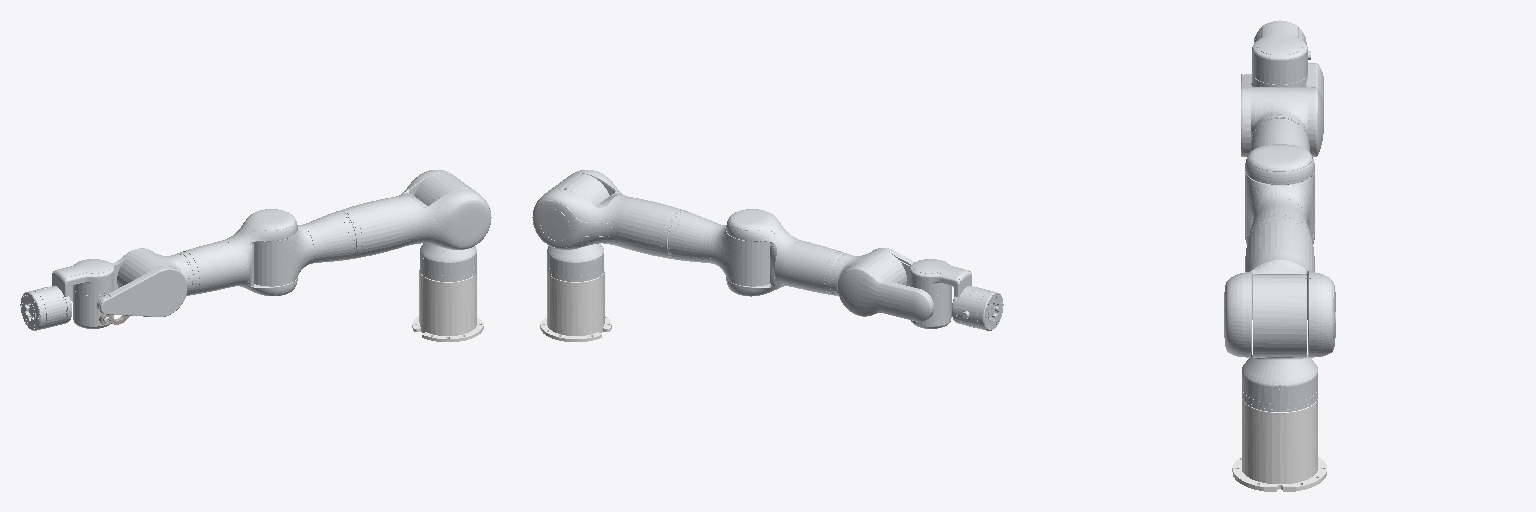
The robot description file, URDF, robot "RXL75S-6F-4C":
<?xml version="1.0" encoding="utf-8"?>
<!-- This URDF was automatically created by SolidWorks to URDF Exporter! Originally created by Stephen Brawner (brawner@gmail.com) 
     Commit Version: 1.6.0-1-g15f4949  Build Version: 1.6.7594.29634
     For more information, please see http://wiki.ros.org/sw_urdf_exporter -->
<robot
  name="RXL75S-6F-4C">
  <link
    name="l_baselink">
    <inertial>
      <origin
        xyz="1.9E-05 -0.000117 0.062107"
        rpy="0 0 0" />
      <mass
        value="1.233" />
      <inertia
        ixx="0.001156944"
        ixy="-0.000000516"
        ixz="0.000000179"
        iyy="0.001149831"
        iyz="-0.000006949"
        izz="0.000883368" />
    </inertial>
    <visual>
      <origin
        xyz="0 0 0"
        rpy="0 0 0" />
      <geometry>
        <mesh
          filename="package://RXL75S-6F-4C/meshes/l_baselink.STL" />
      </geometry>
      <material
        name="">
        <color
          rgba="1 1 1 1" />
      </material>
    </visual>
    <collision>
      <origin
        xyz="0 0 0"
        rpy="0 0 0" />
      <geometry>
        <mesh
          filename="package://RXL75S-6F-4C/meshes/l_baselink.STL" />
      </geometry>
    </collision>
  </link>
  <link
    name="l_link1">
    <inertial>
      <origin
        xyz="-0.000138 -0.000982 -0.012182"
        rpy="0 0 0" />
      <mass
        value="1.821" />
      <inertia
        ixx="0.003045204"
        ixy="-0.000009121"
        ixz="0.000003017"
        iyy="0.002724994"
        iyz="0.000038741"
        izz="0.001902354" />
    </inertial>
    <visual>
      <origin
        xyz="0 0 0"
        rpy="0 0 0" />
      <geometry>
        <mesh
          filename="package://RXL75S-6F-4C/meshes/l_link1.STL" />
      </geometry>
      <material
        name="">
        <color
          rgba="0.89804 0.91765 0.92941 1" />
      </material>
    </visual>
    <collision>
      <origin
        xyz="0 0 0"
        rpy="0 0 0" />
      <geometry>
        <mesh
          filename="package://RXL75S-6F-4C/meshes/l_link1.STL" />
      </geometry>
    </collision>
  </link>
  <joint
    name="l_joint1"
    type="revolute">
    <origin
      xyz="0 0 0.1855"
      rpy="0 0 0" />
    <parent
      link="l_baselink" />
    <child
      link="l_link1" />
    <axis
      xyz="0 0 1" />
    <limit
      lower="-3.054"
      upper="3.054"
      effort="60"
      velocity="3.14" />
  </joint>
  <link
    name="l_link2">
    <inertial>
      <origin
        xyz="0.000688 -0.098869 -0.001"
        rpy="0 0 0" />
      <mass
        value="1.774" />
      <inertia
        ixx="0.007782080"
        ixy="-0.000016924"
        ixz="-0.000000923"
        iyy="0.002081771"
        iyz="0.000101593"
        izz="0.007252211" />
    </inertial>
    <visual>
      <origin
        xyz="0 0 0"
        rpy="0 0 0" />
      <geometry>
        <mesh
          filename="package://RXL75S-6F-4C/meshes/l_link2.STL" />
      </geometry>
      <material
        name="">
        <color
          rgba="0.89804 0.91765 0.92941 1" />
      </material>
    </visual>
    <collision>
      <origin
        xyz="0 0 0"
        rpy="0 0 0" />
      <geometry>
        <mesh
          filename="package://RXL75S-6F-4C/meshes/l_link2.STL" />
      </geometry>
    </collision>
  </link>
  <joint
    name="l_joint2"
    type="revolute">
    <origin
      xyz="0 0 0"
      rpy="-1.5708 -1.5708 0" />
    <parent
      link="l_link1" />
    <child
      link="l_link2" />
    <axis
      xyz="0 0 1" />
    <limit
      lower="-0.261"
      upper="3.054"
      effort="60"
      velocity="3.14" />
  </joint>
  <link
    name="l_link3">
    <inertial>
      <origin
        xyz="0.000217 -0.000308 -0.016346"
        rpy="0 0 0" />
      <mass
        value="1.346" />
      <inertia
        ixx="0.002702961"
        ixy="-0.000009675"
        ixz="-0.000002359"
        iyy="0.002346715"
        iyz="-0.000036364"
        izz="0.001250956" />
    </inertial>
    <visual>
      <origin
        xyz="0 0 0"
        rpy="0 0 0" />
      <geometry>
        <mesh
          filename="package://RXL75S-6F-4C/meshes/l_link3.STL" />
      </geometry>
      <material
        name="">
        <color
          rgba="0.89804 0.91765 0.92941 1" />
      </material>
    </visual>
    <collision>
      <origin
        xyz="0 0 0"
        rpy="0 0 0" />
      <geometry>
        <mesh
          filename="package://RXL75S-6F-4C/meshes/l_link3.STL" />
      </geometry>
    </collision>
  </link>
  <joint
    name="l_joint3"
    type="revolute">
    <origin
      xyz="0 -0.292 0"
      rpy="1.5708 -1.5708 0" />
    <parent
      link="l_link2" />
    <child
      link="l_link3" />
    <axis
      xyz="0 0 1" />
    <limit
      lower="-3.054"
      upper="3.054"
      effort="30"
      velocity="3.926" />
  </joint>
  <link
    name="l_link4">
    <inertial>
      <origin
        xyz="-000009 0.089133 -0.001106"
        rpy="0 0 0" />
      <mass
        value="1.062" />
      <inertia
        ixx="0.003236428"
        ixy="-0.000000356"
        ixz="0.000000104"
        iyy="0.000976517"
        iyz="-0.000082553"
        izz="0.002921633" />
    </inertial>
    <visual>
      <origin
        xyz="0 0 0"
        rpy="0 0 0" />
      <geometry>
        <mesh
          filename="package://RXL75S-6F-4C/meshes/l_link4.STL" />
      </geometry>
      <material
        name="">
        <color
          rgba="0.89804 0.91765 0.92941 1" />
      </material>
    </visual>
    <collision>
      <origin
        xyz="0 0 0"
        rpy="0 0 0" />
      <geometry>
        <mesh
          filename="package://RXL75S-6F-4C/meshes/l_link4.STL" />
      </geometry>
    </collision>
  </link>
  <joint
    name="l_joint4"
    type="revolute">
    <origin
      xyz="0 0 0"
      rpy="1.5708 0 0" />
    <parent
      link="l_link3" />
    <child
      link="l_link4" />
    <axis
      xyz="0 0 1" />
    <limit
      lower="-1.832"
      upper="1.832"
      effort="30"
      velocity="3.926" />
  </joint>
  <link
    name="l_link5">
    <inertial>
      <origin
        xyz="-0.000449 -0.000689 -0.086584"
        rpy="0 0 0" />
      <mass
        value="1.027" />
      <inertia
        ixx="0.001674281"
        ixy="-0.000016685"
        ixz="-0.000028072"
        iyy="0.001401550"
        iyz="-0.000009402"
        izz="0.000909131" />
    </inertial>
    <visual>
      <origin
        xyz="0 0 0"
        rpy="0 0 0" />
      <geometry>
        <mesh
          filename="package://RXL75S-6F-4C/meshes/l_link5.STL" />
      </geometry>
      <material
        name="">
        <color
          rgba="0.89804 0.91765 0.92941 1" />
      </material>
    </visual>
    <collision>
      <origin
        xyz="0 0 0"
        rpy="0 0 0" />
      <geometry>
        <mesh
          filename="package://RXL75S-6F-4C/meshes/l_link5.STL" />
      </geometry>
    </collision>
  </link>
  <joint
    name="l_joint5"
    type="revolute">
    <origin
      xyz="0 0.294 0"
      rpy="1.5708 1.5708 3.14" />
    <parent
      link="l_link4" />
    <child
      link="l_link5" />
    <axis
      xyz="0 0 1" />
    <limit
      lower="-2.967"
      upper="2.967"
      effort="10"
      velocity="3.926" />
  </joint>
  <link
    name="l_link6">
    <inertial>
      <origin
        xyz="-0.000002 -0.000177 0.000105"
        rpy="0 0 0" />
      <mass
        value="0.637" />
      <inertia
        ixx="0.000356858"
        ixy="0.000000059"
        ixz="-0.000000012"
        iyy="0.000264812"
        iyz="-0.000002851"
        izz="0.000353400" />
    </inertial>
    <visual>
      <origin
        xyz="0 0 0"
        rpy="0 0 0" />
      <geometry>
        <mesh
          filename="package://RXL75S-6F-4C/meshes/l_link6.STL" />
      </geometry>
      <material
        name="">
        <color
          rgba="0.89804 0.91765 0.92941 1" />
      </material>
    </visual>
    <collision>
      <origin
        xyz="0 0 0"
        rpy="0 0 0" />
      <geometry>
        <mesh
          filename="package://RXL75S-6F-4C/meshes/l_link6.STL" />
      </geometry>
    </collision>
  </link>
  <joint
    name="l_joint6"
    type="revolute">
    <origin
      xyz="0 0 0"
      rpy="1.5708 -1.5708 0" />
    <parent
      link="l_link5" />
    <child
      link="l_link6" />
    <axis
      xyz="0 0 1" />
    <limit
      lower="-1.134"
      upper="0.349"
      effort="10"
      velocity="3.926" />
  </joint>
  <link
    name="l_link7">
    <inertial>
      <origin
        xyz="-0.000073 -0.026804 -0.023401"
        rpy="0 0 0" />
      <mass
        value="0.149" />
      <inertia
        ixx="0.000200730"
        ixy="-0.000000322"
        ixz="0.000000255"
        iyy="0.000108963"
        iyz="0.000055610"
        izz="0.000181009" />
    </inertial>
    <visual>
      <origin
        xyz="0 0 0"
        rpy="0 0 0" />
      <geometry>
        <mesh
          filename="package://RXL75S-6F-4C/meshes/l_link7.STL" />
      </geometry>
      <material
        name="">
        <color
          rgba="0.89804 0.91765 0.92941 1" />
      </material>
    </visual>
    <collision>
      <origin
        xyz="0 0 0"
        rpy="0 0 0" />
      <geometry>
        <mesh
          filename="package://RXL75S-6F-4C/meshes/l_link7.STL" />
      </geometry>
    </collision>
  </link>
  <joint
    name="l_joint7"
    type="revolute">
    <origin
      xyz="0 0 0"
      rpy="1.5708 -1.5708 0" />
    <parent
      link="l_link6" />
    <child
      link="l_link7" />
    <axis
      xyz="0 0 1" />
    <limit
      lower="-1.745"
      upper="1.57"
      effort="10"
      velocity="3.926" />
  </joint>
  <link
    name="l_link8">
    <inertial>
      <origin
        xyz="0.000104 0.000009 -0.016572"
        rpy="0 0 0" />
      <mass
        value="0.22" />
      <inertia
        ixx="0.000090941"
        ixy="-0.000000052"
        ixz="0.000000373"
        iyy="0.000091701"
        iyz="-0.000000037"
        izz="0.000115271" />
    </inertial>
    <visual>
      <origin
        xyz="0 0 0"
        rpy="0 0 0" />
      <geometry>
        <mesh
          filename="package://RXL75S-6F-4C/meshes/l_link8.STL" />
      </geometry>
      <material
        name="">
        <color
          rgba="0.89804 0.91765 0.92941 1" />
      </material>
    </visual>
    <collision>
      <origin
        xyz="0 0 0"
        rpy="0 0 0" />
      <geometry>
        <mesh
          filename="package://RXL75S-6F-4C/meshes/l_link8.STL" />
      </geometry>
    </collision>
  </link>
  <joint
    name="l_joint8"
    type="fixed">
    <origin
      xyz="0 -0.105 1.0897E-05"
      rpy="1.5708 0 0" />
    <parent
      link="l_link7" />
    <child
      link="l_link8" />
    <axis
      xyz="0 0 0" />
  </joint>
  <link
    name="l_link9">
    <inertial>
      <origin
        xyz="4.2744E-15 0.04189 -0.0033223"
        rpy="0 0 0" />
      <mass
        value="0.001" />
      <inertia
        ixx="3.5428E-05"
        ixy="1.5861E-22"
        ixz="1.3871E-19"
        iyy="6.2929E-07"
        iyz="-2.5429E-19"
        izz="3.5785E-05" />
    </inertial>
    <visual>
      <origin
        xyz="0 0 0"
        rpy="0 0 0" />
      <geometry>
        <mesh
          filename="package://RXL75S-6F-4C/meshes/l_link9.STL" />
      </geometry>
      <material
        name="">
        <color
          rgba="0.77647 0.75686 0.73725 1" />
      </material>
    </visual>
    <collision>
      <origin
        xyz="0 0 0"
        rpy="0 0 0" />
      <geometry>
        <mesh
          filename="package://RXL75S-6F-4C/meshes/l_link9.STL" />
      </geometry>
    </collision>
  </link>
  <joint
    name="l_joint9"
    type="revolute">
    <origin
      xyz="0 -0.022 -0.0382"
      rpy="3.1416 0 -1.5708" />
    <parent
      link="l_link6" />
    <child
      link="l_link9" />
    <axis
      xyz="0 0 1" />
    <limit
      lower="-1.134"
      upper="0.349"
      effort="10"
      velocity="3.926" />
    <mimic joint="l_joint6" multiplier="1"  offset="0"/>
  </joint>
</robot>

--- Render facts (derived) ---
Views: 3 orthographic renders of the robot side by side, from view 1: azimuth 30°, elevation 25°; view 2: azimuth 150°, elevation 25°; view 3: azimuth 270°, elevation 25°.
Model RXL75S-6F-4C with 10 links and 9 joints (8 revolute, 1 fixed), rooted at l_baselink, posed all joints at 0.
Visible links, largest first — view 1: l_link2, l_link4, l_link5, l_link3, l_baselink, l_link1, l_link7, l_link8, l_link6; view 2: l_link2, l_link5, l_link4, l_link3, l_baselink, l_link1, l_link7, l_link8, l_link6; view 3: l_link1, l_link2, l_baselink, l_link5, l_link4, l_link3, l_link7.
Link boxes in pixels (x1,y1,x2,y2): l_link2: [340, 170, 491, 258]; l_link4: [180, 209, 297, 295]; l_link5: [70, 248, 193, 316]; l_link3: [254, 211, 355, 286]; l_baselink: [412, 270, 483, 341]; l_link1: [414, 173, 476, 281]; l_link7: [52, 259, 113, 323]; l_link8: [20, 286, 67, 330]; l_link6: [73, 290, 113, 328]; l_link2: [532, 170, 684, 258]; l_link5: [830, 248, 933, 321]; l_link4: [726, 209, 843, 296]; l_link3: [668, 211, 770, 286]; l_baselink: [540, 270, 611, 341]; l_link1: [547, 173, 609, 281]; l_link7: [910, 259, 971, 323]; l_link8: [956, 286, 1003, 330]; l_link6: [910, 287, 951, 328]; l_link1: [1242, 275, 1317, 411]; l_link2: [1224, 218, 1335, 357]; l_baselink: [1232, 399, 1326, 491]; l_link5: [1241, 63, 1323, 156]; l_link4: [1245, 117, 1314, 243]; l_link3: [1245, 172, 1314, 238]; l_link7: [1252, 22, 1307, 84].
Size in the robot's own frame: 0.7387 by 0.12 by 0.2425 metres.
10 mesh visuals loaded from 10 distinct referenced files (10 binary STL).
